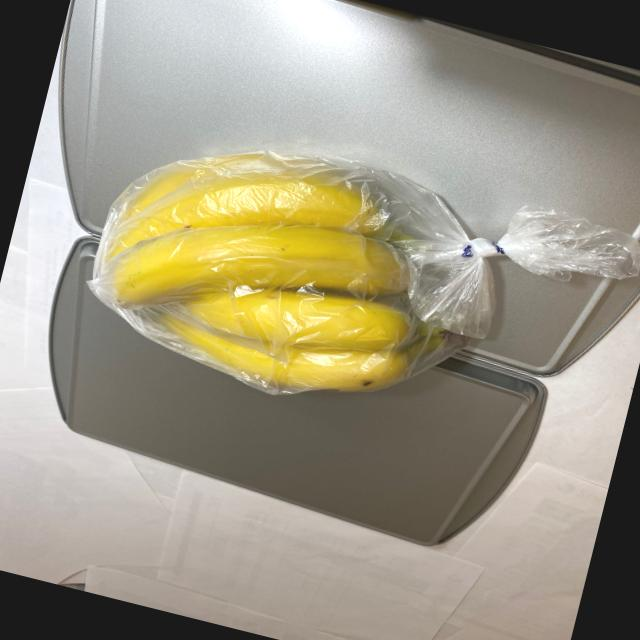banana: (68, 105, 524, 442)
